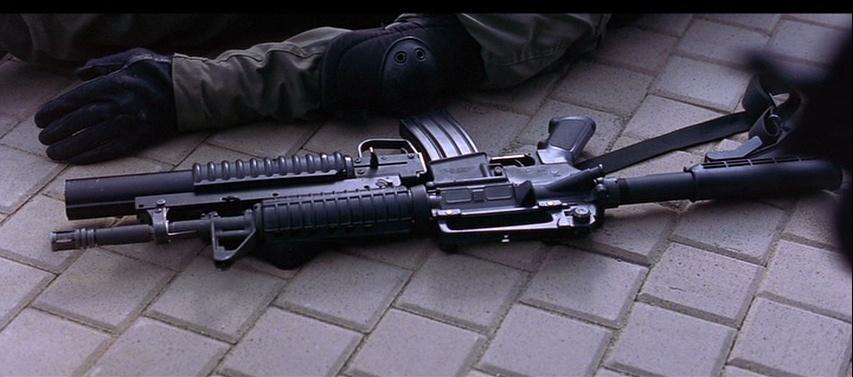blood: (32, 87, 853, 327)
